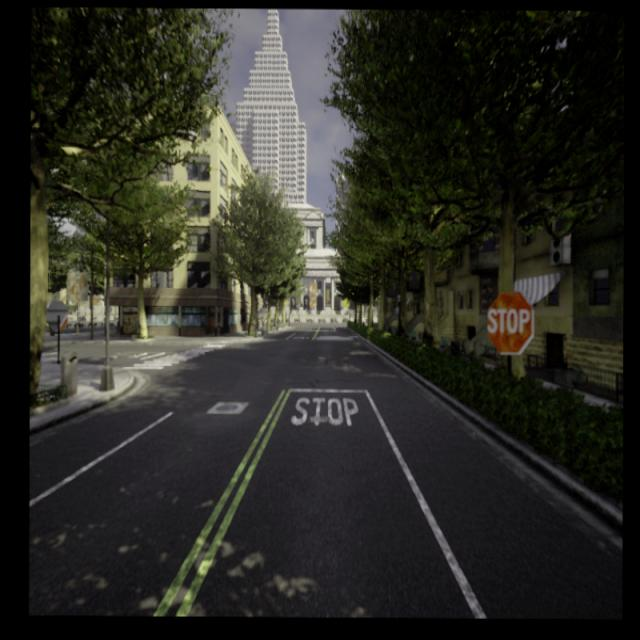stop sign: (484, 288, 536, 357), (486, 305, 532, 336)
